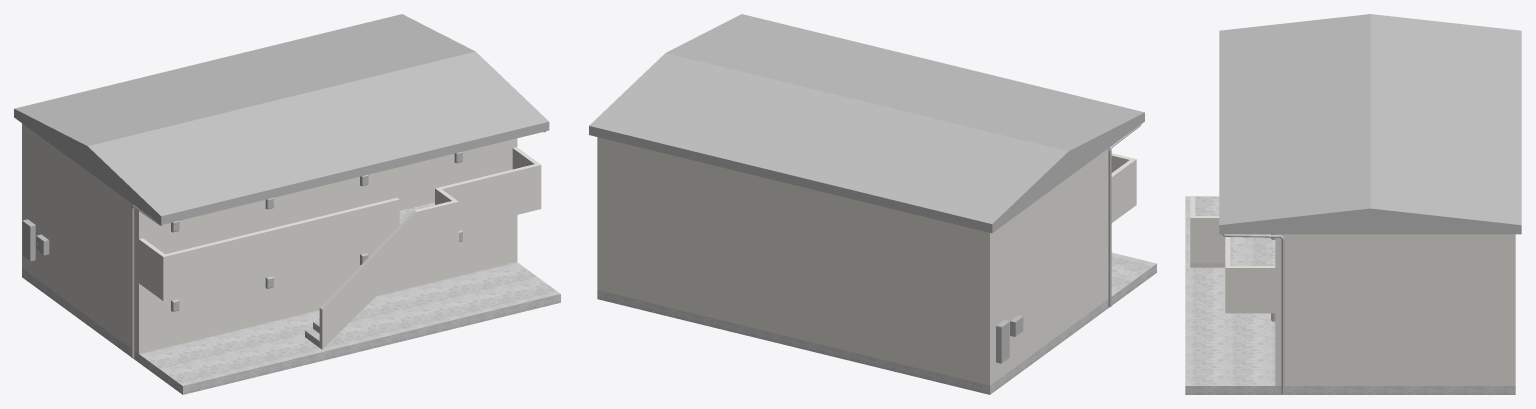
Rendered from JapaneseBuildingModel07Base.obj.
The picture shows the model from 3 angles, left to right: view 1: azimuth 30°, elevation 25°; view 2: azimuth 150°, elevation 25°; view 3: azimuth 270°, elevation 25°; orthographic projection. The views are drawn at different scales.
Parts seen in each view (by area): view 1: JapaneseBuildingModel07Base; view 2: JapaneseBuildingModel07Base; view 3: JapaneseBuildingModel07Base.
Part boxes in pixels (bbox=[...]): JapaneseBuildingModel07Base: bbox=[14, 14, 560, 394]; JapaneseBuildingModel07Base: bbox=[589, 14, 1156, 394]; JapaneseBuildingModel07Base: bbox=[1185, 14, 1521, 394].
Bounding box in the file's own units: 23.04 × 10.42 × 16.8.
